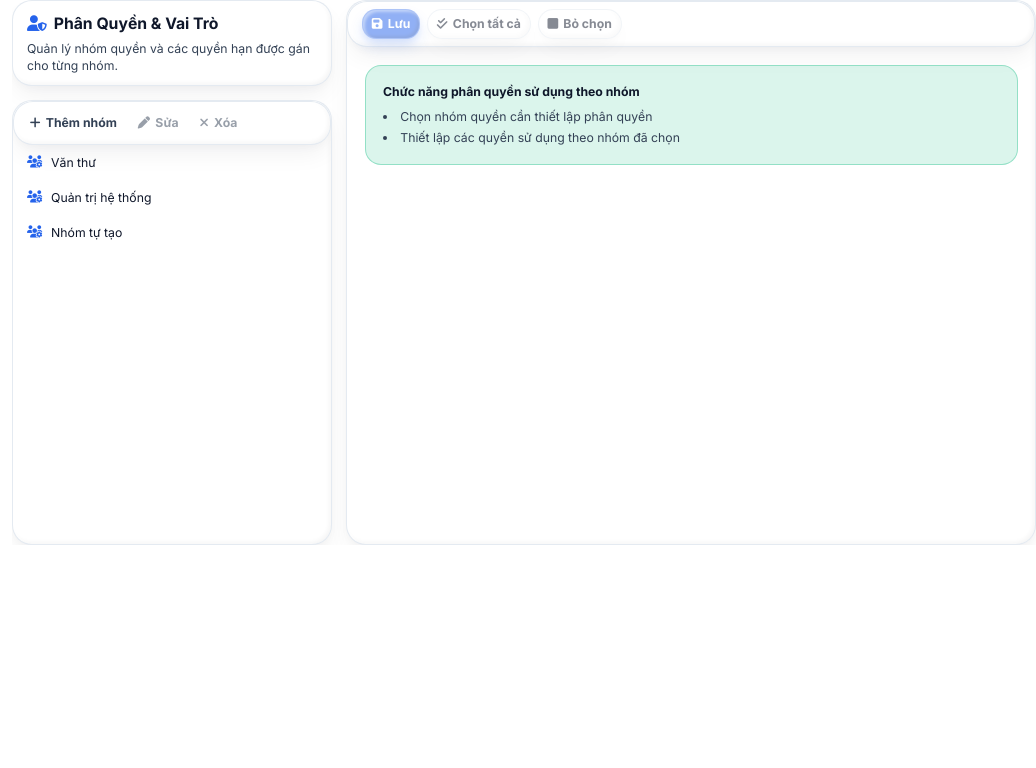
Scenario: RolesPage (Issue #21) › saves the changed permissions of the selected role
This screenshot has width=1036, height=768.
Click the button "Văn thư": point(73, 162) x1=13 y1=145 x2=331 y2=180
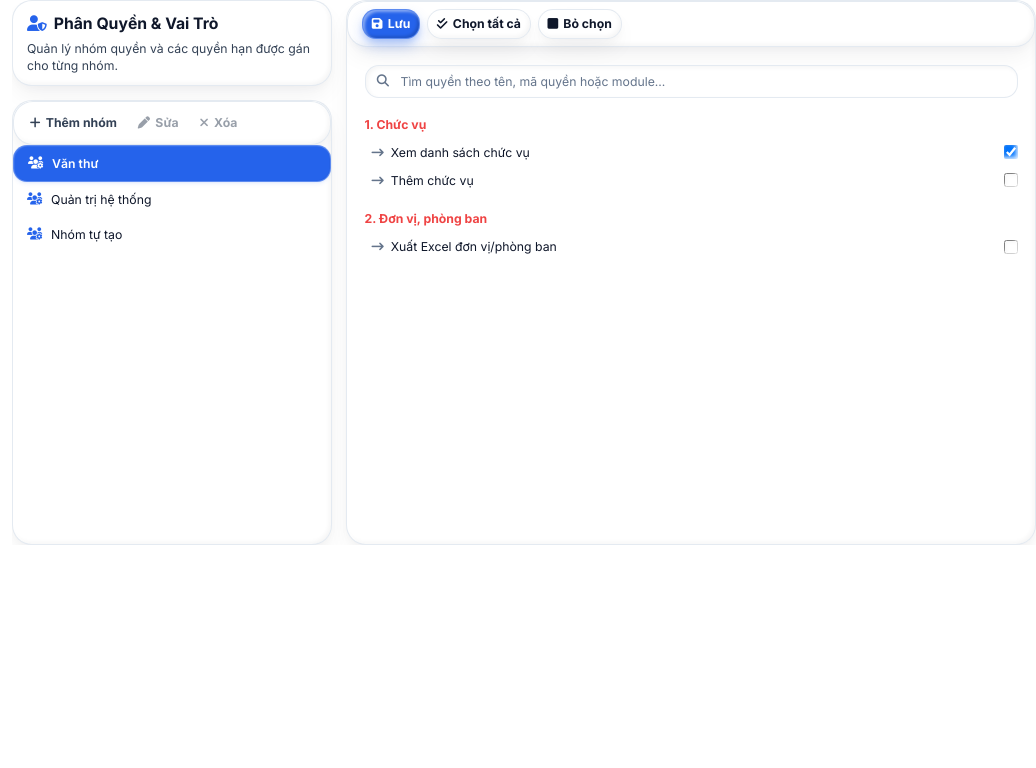
Click the checkbox labelled "Thêm chức vụ": point(1010, 180) x1=1004 y1=173 x2=1018 y2=187
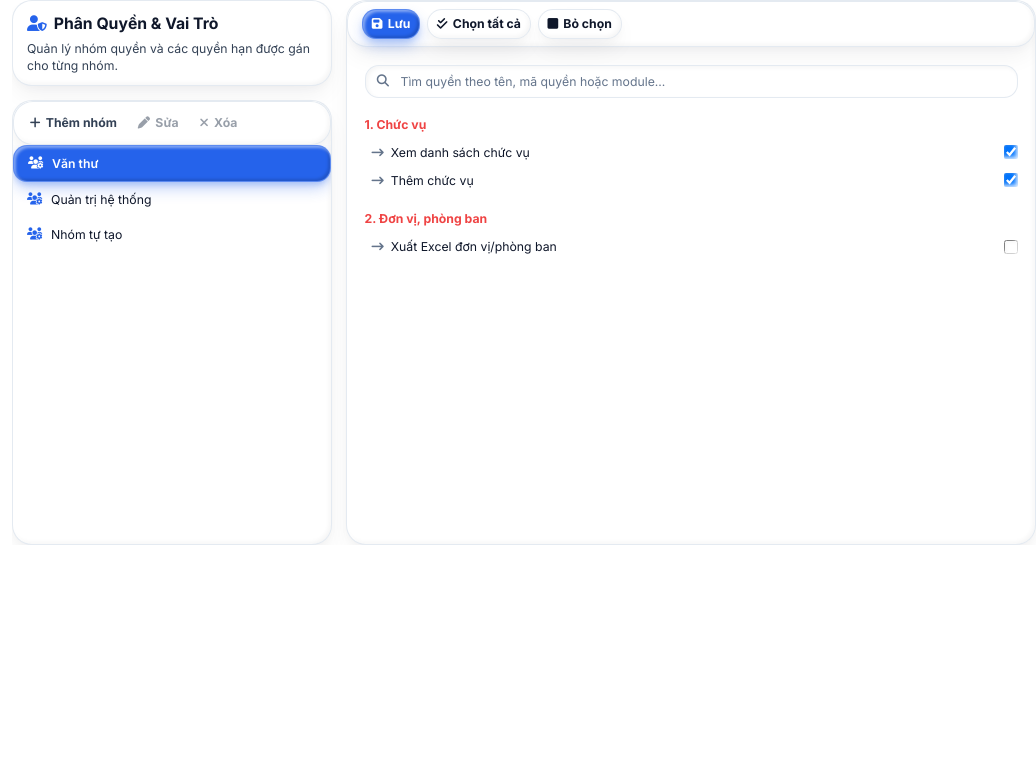
Click the button "Lưu": point(391, 24) x1=362 y1=9 x2=420 y2=39
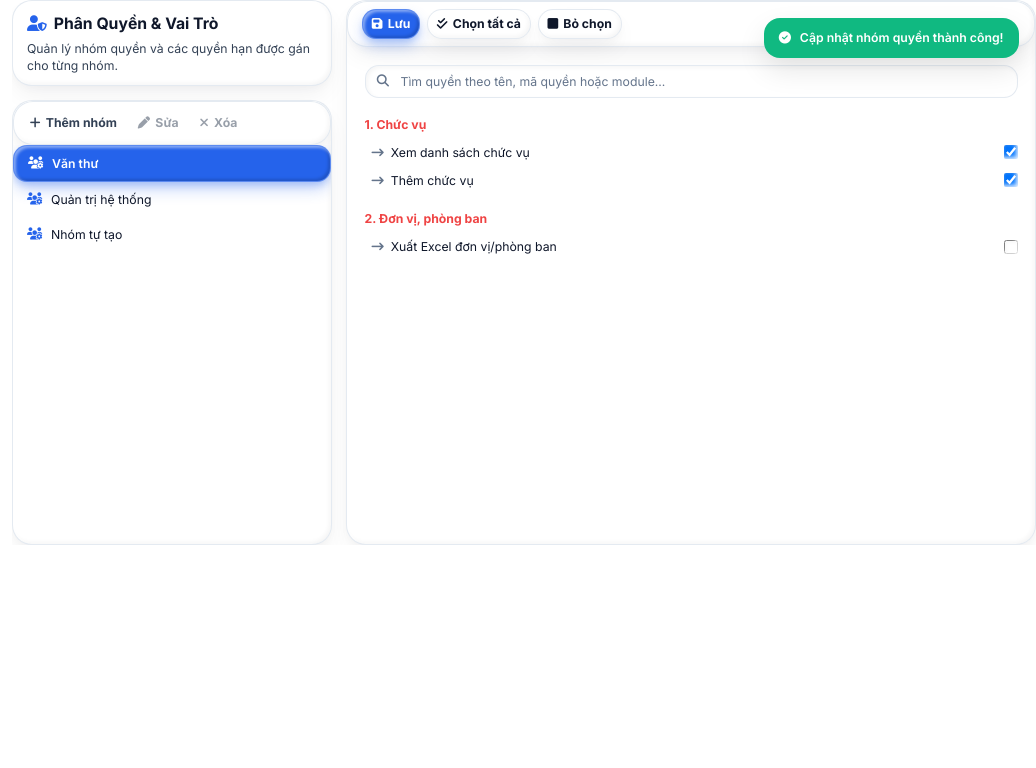
Result: the text "Cập nhật nhóm quyền thành công!" is shown at x1=764 y1=18 x2=1018 y2=58
